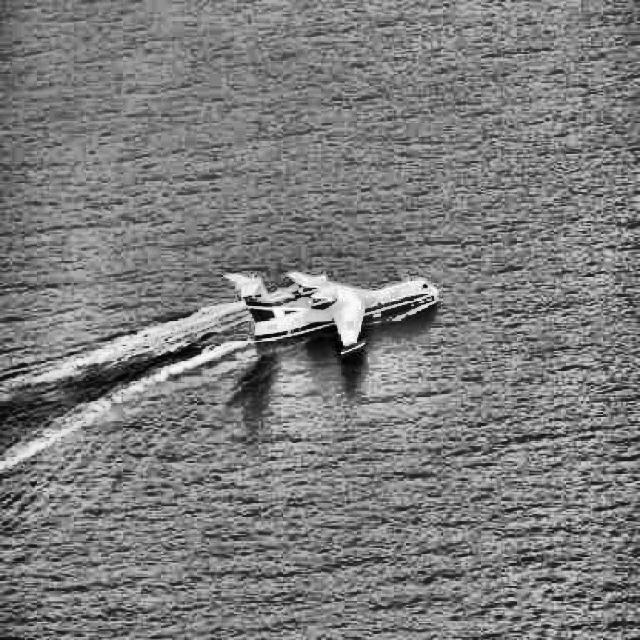Be200: (222, 271, 438, 360)
